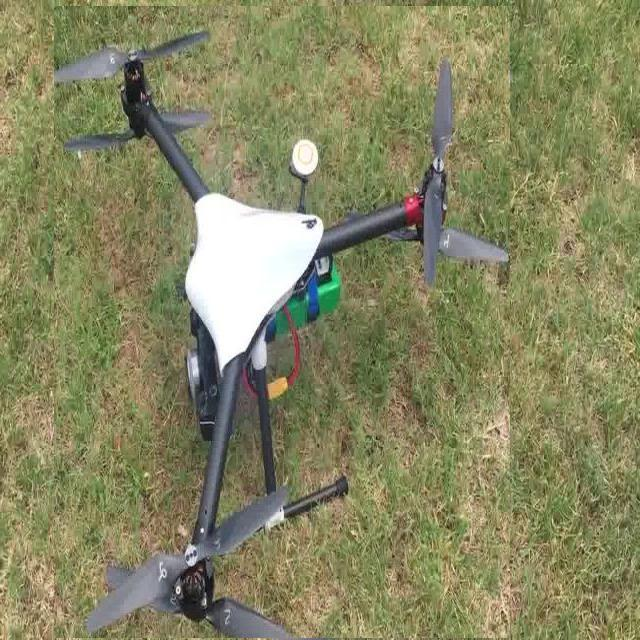drone: (53, 6, 510, 638)
